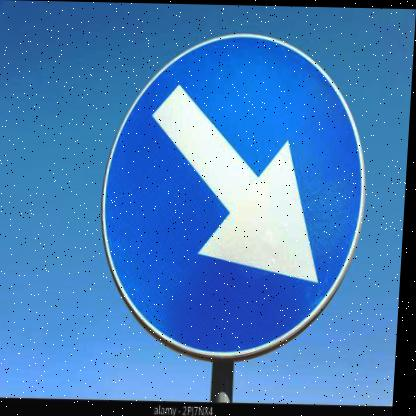Keep right: (96, 23, 376, 359)
